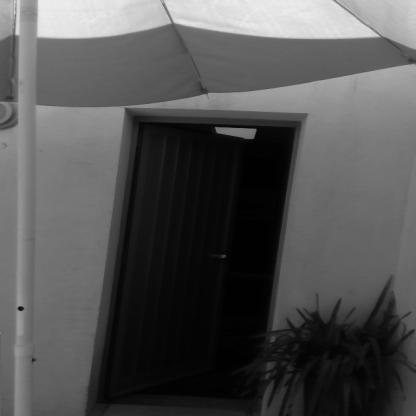semi: (107, 92, 311, 410)
